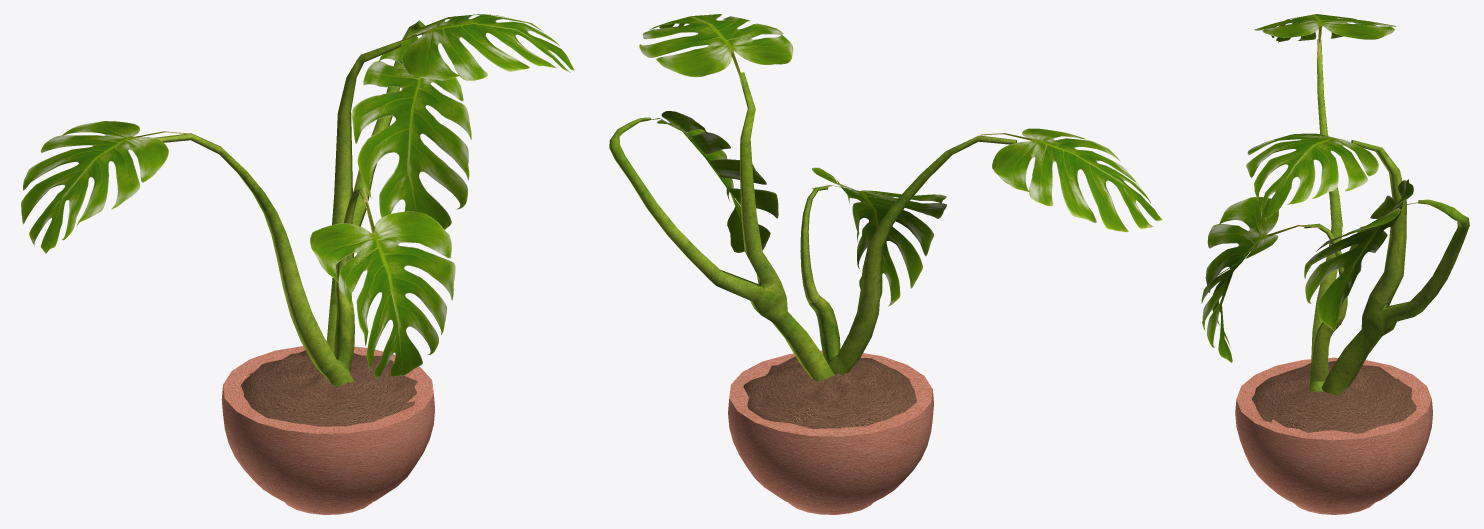
The model's file is MonsterraPlant.fbx.
3 views of the same model, side by side, from view 1: azimuth 30°, elevation 25°; view 2: azimuth 150°, elevation 25°; view 3: azimuth 270°, elevation 25° (orthographic). The views are drawn at different scales.
Visible parts, largest first — view 1: Pot, Leaf3, Leaf1, Leaf4, dirt, Leaf2, stem2, stems; view 2: Pot, dirt, stems, Leaf4, stem2, Leaf2, Leaf3, Leaf1; view 3: Pot, dirt, stems, Leaf2, Leaf3, Leaf1, stem2, Leaf4.
Part boxes in pixels (x1,y1,x2,y2): Pot: (221,346,435,514); Leaf3: (310,188,455,380); Leaf1: (352,34,471,229); Leaf4: (21,121,190,253); dirt: (241,350,417,426); Leaf2: (400,14,574,80); stem2: (154,133,365,387); stems: (326,20,425,354); Pot: (728,350,933,514); dirt: (743,356,916,428); stems: (609,72,834,382); Leaf4: (981,128,1162,232); stem2: (800,135,1016,375); Leaf2: (639,14,793,85); Leaf3: (811,167,946,306); Leaf1: (650,111,778,252); Pot: (1235,357,1432,514); dirt: (1251,361,1416,433); stems: (1321,140,1469,395); Leaf2: (1246,133,1378,220); Leaf3: (1201,197,1320,362); Leaf1: (1304,179,1417,331); stem2: (1304,39,1347,391); Leaf4: (1254,14,1396,58).
Bounding box in the file's own units: 16.97 × 13.69 × 8.19.
